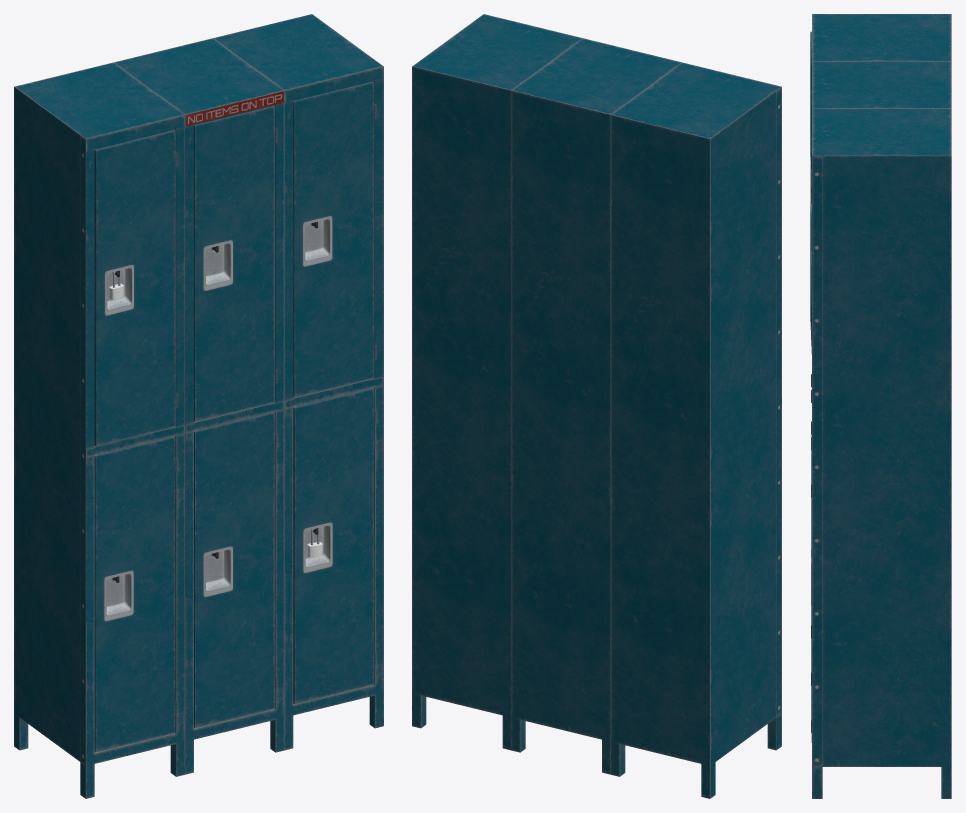
The model's file is LockerRooms.FBX.
3 views of the same model, side by side, from view 1: azimuth 30°, elevation 25°; view 2: azimuth 150°, elevation 25°; view 3: azimuth 270°, elevation 25° (orthographic). The views are drawn at different scales.
Visible parts, largest first — view 1: LockerRooms, DoorB, DoorC, DoorA, DoorD; view 2: LockerRooms; view 3: LockerRooms.
Boxes of the visible parts, x1,y1,x2,y2 form: LockerRooms: (14,14,383,798); DoorB: (293,81,375,397); DoorC: (94,436,175,752); DoorA: (194,106,276,421); DoorD: (194,412,274,728); LockerRooms: (412,14,781,798); LockerRooms: (810,14,951,798).
Size of the model in its own units: 91.47 by 194 by 38.62.
